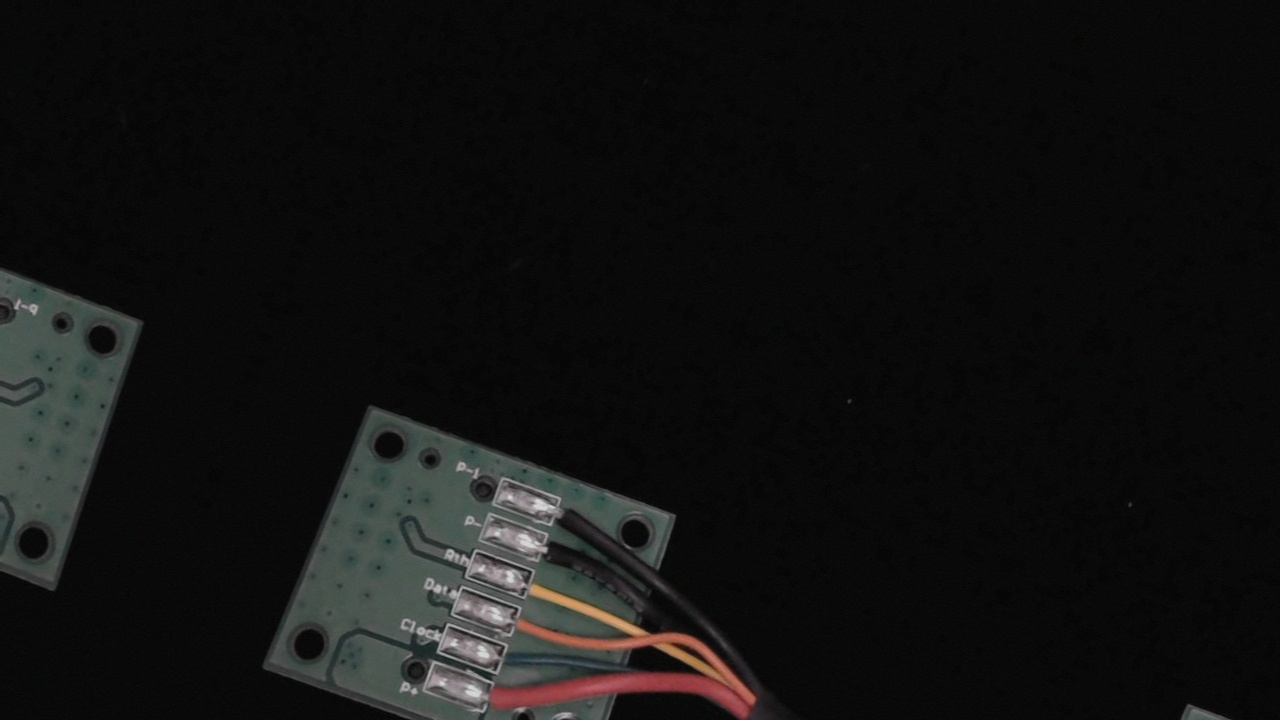Black: (518, 526, 598, 583)
Black1: (534, 488, 609, 542)
Green: (476, 637, 553, 694)
Orange: (491, 598, 570, 653)
Red: (460, 673, 538, 720)
Yellow: (504, 562, 585, 620)
